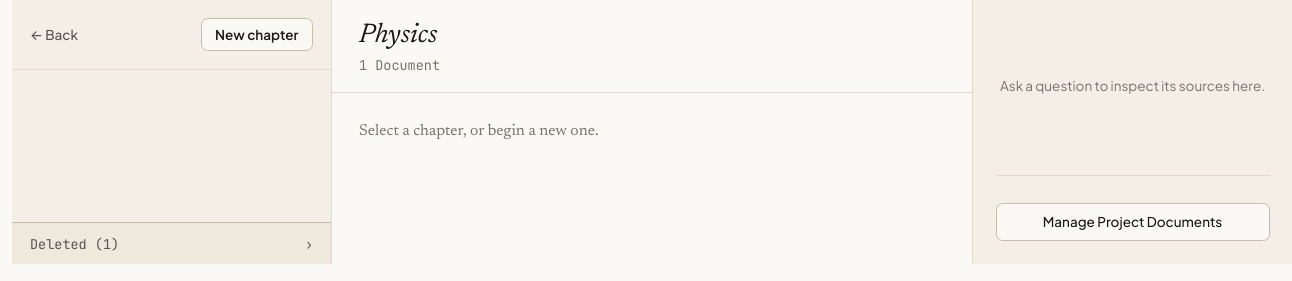
Test: ChatScreen › shows an error if restoring a deleted chapter fails
This screenshot has width=1292, height=281.
Click the text "Deleted (1)".
click(75, 244)  # box 30,235 -> 119,253
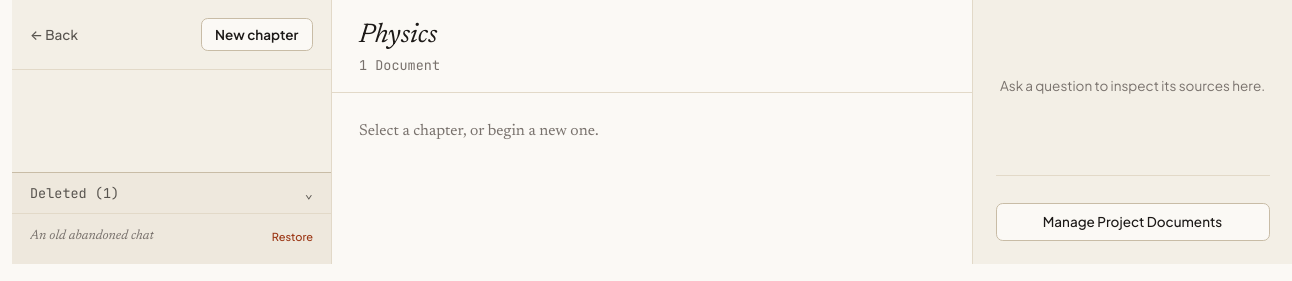
Click the button "Restore".
click(292, 237)  # box 272,230 -> 313,244
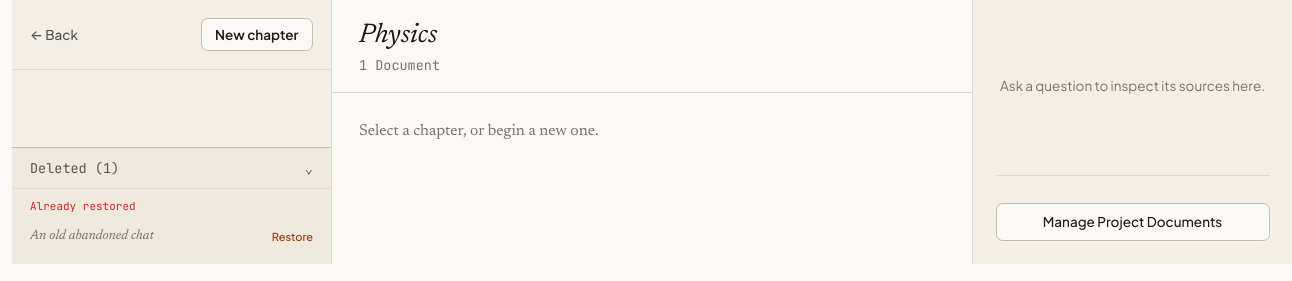
Now the text "Already restored" is shown, box 30,199 -> 136,213
